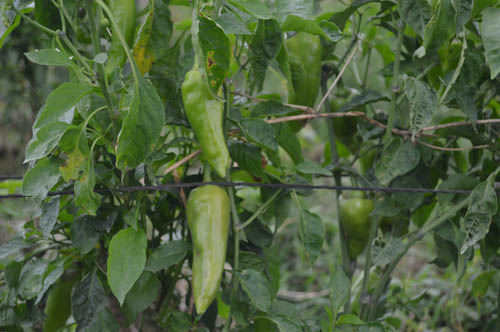ChiliPepper: (185, 187, 231, 318), (183, 72, 233, 181), (282, 30, 325, 128), (338, 192, 372, 259), (40, 272, 75, 327), (107, 6, 139, 64)
